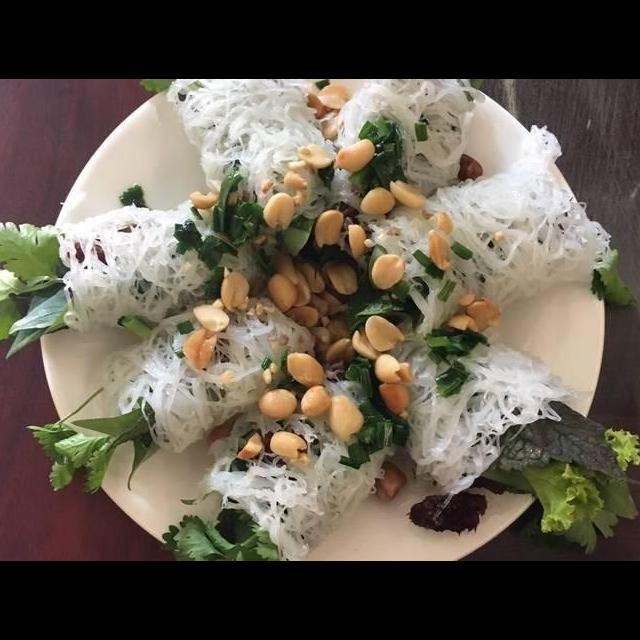banh hoi: (351, 119, 621, 348), (196, 347, 404, 561), (371, 307, 582, 506), (99, 290, 321, 458), (48, 192, 279, 338), (163, 80, 340, 257), (321, 80, 488, 262)
